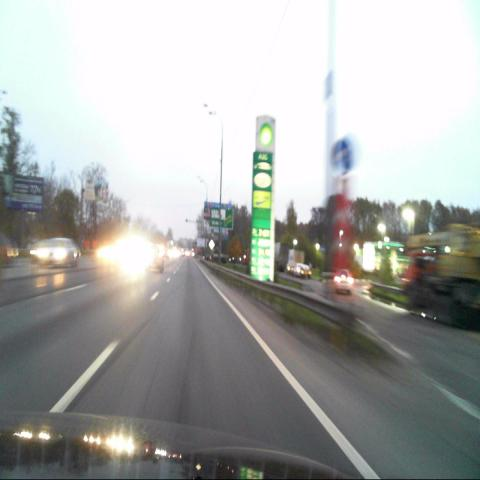2_1: (208, 238, 215, 250)
4_2_3: (330, 139, 351, 177)
